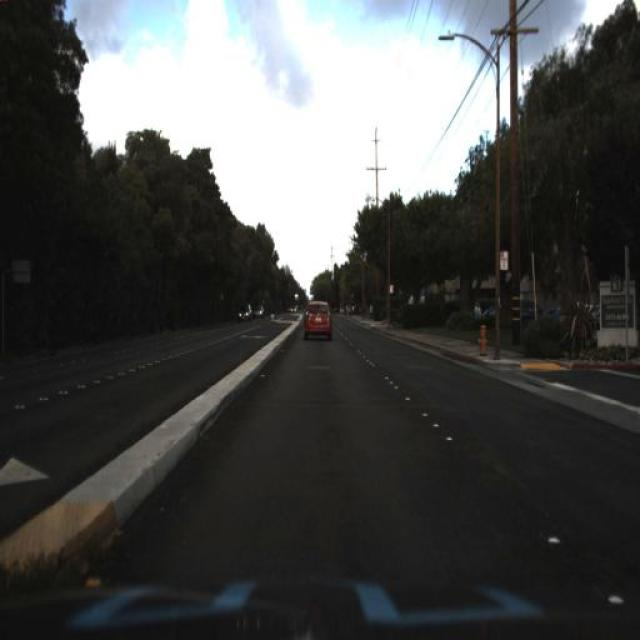car: (303, 299, 336, 340), (253, 301, 266, 320)
